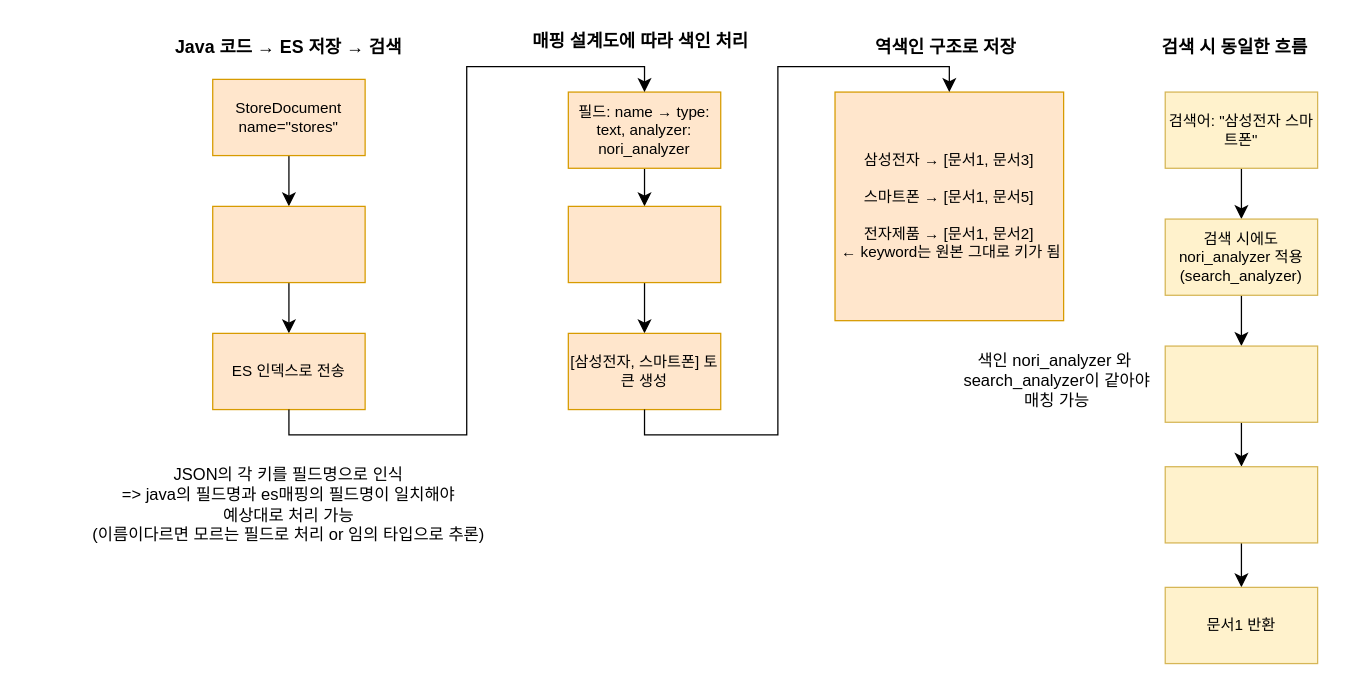
The diagram is 1351 pixels wide and 686 high, and some of its shapes have lost their labels. Here are the shapes that lost their labels. From the top down, the centre of each, then its label:
(x=288, y=244): JSON 직렬화
(x=644, y=244): "삼성전자 스마트폰" 형태소 분석
(x=1241, y=383): [삼성전자, 스마트폰] 으로 분석
(x=1241, y=504): 역색인에서 두 토큰 조회
